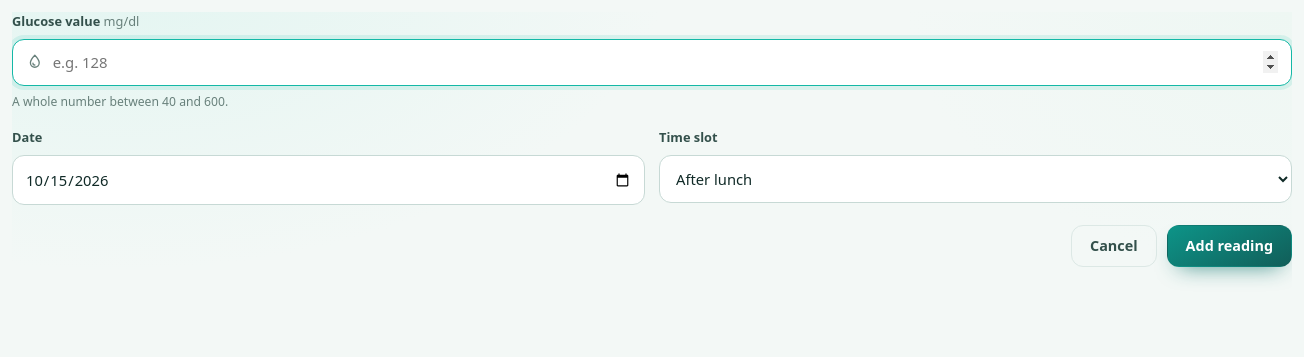
Test: ReadingForm › rejects a value outside 40-600 mg/dl
Step 1. Type "30" into the number field labelled "Glucose value mg/dl" → (665, 62), box [53,40,1278,85]
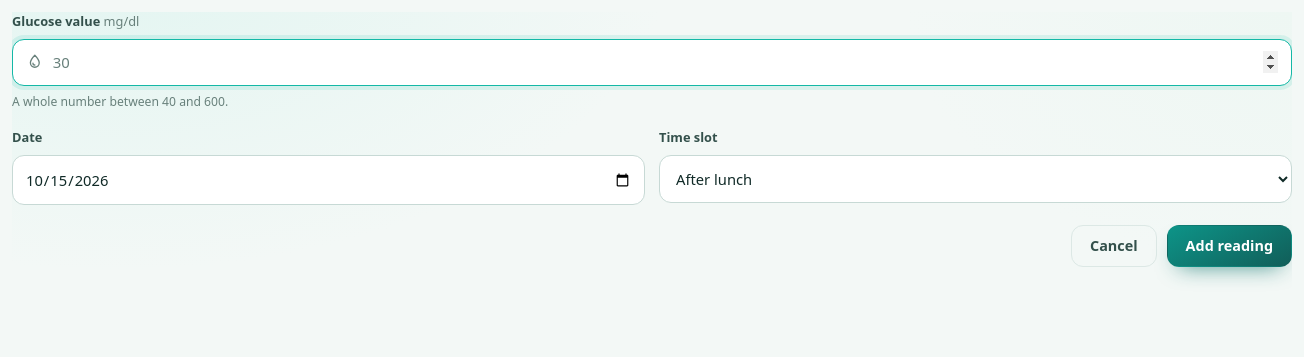
Step 2. Click the button "Add reading" → click(1229, 246), box [1167,225,1292,267]
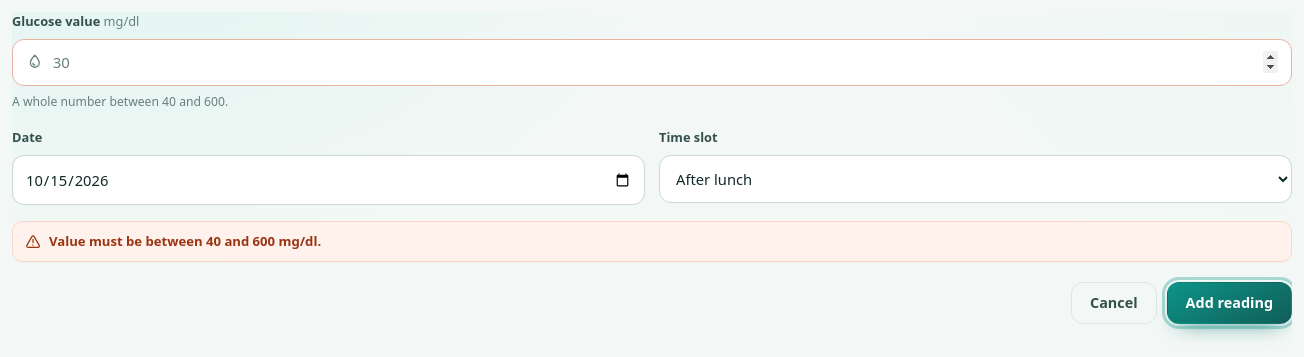
Expected: the message reads "Value must be between 40 and 600 mg/dl.", [49,232,321,250]
